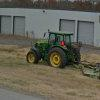Tractor: (20, 23, 86, 68)
